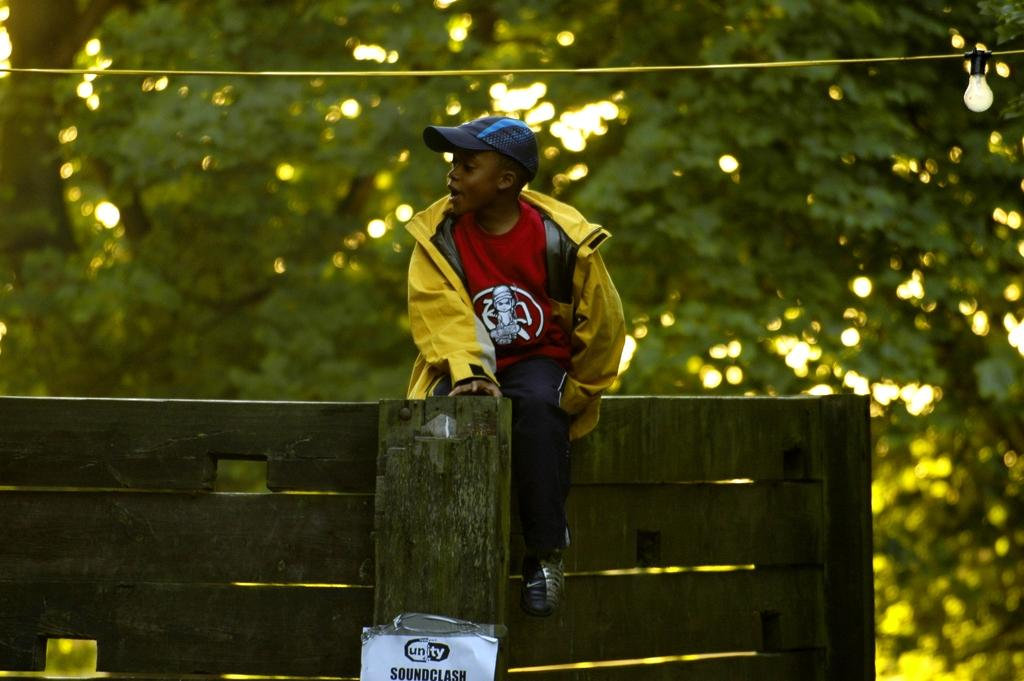Hat: (422, 116, 538, 186)
